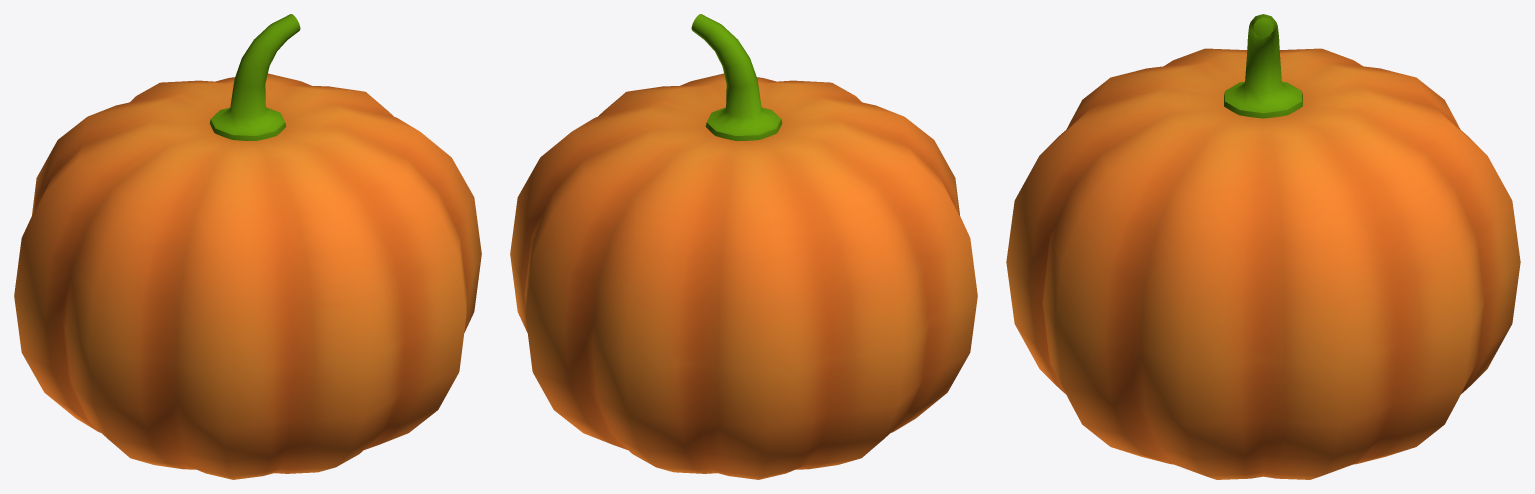
The model's file is pumpkin.FBX.
3 renders of one model, left to right at view 1: azimuth 30°, elevation 25°; view 2: azimuth 150°, elevation 25°; view 3: azimuth 270°, elevation 25°, orthographic. The views are drawn at different scales.
Parts seen in each view (by area): view 1: pumpkin; view 2: pumpkin; view 3: pumpkin.
Boxes of the visible parts, box(x1,y1,x2,y2) form: pumpkin: box(14, 14, 481, 479); pumpkin: box(510, 14, 977, 479); pumpkin: box(1006, 14, 1520, 479).
Bounding box in the file's own units: 42.78 × 41.78 × 44.98.
